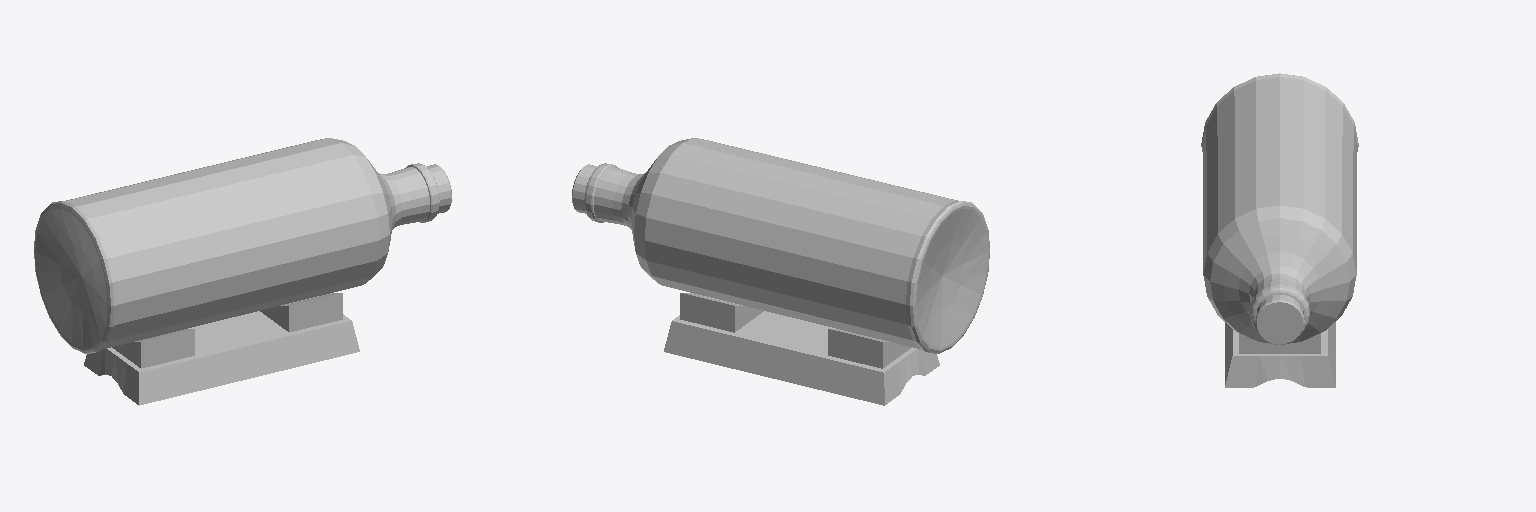
The model's file is boatinabottle.obj.
3 views of the same model, side by side, from view 1: azimuth 30°, elevation 25°; view 2: azimuth 150°, elevation 25°; view 3: azimuth 270°, elevation 25° (orthographic).
Parts seen in each view (by area): view 1: boatinabottle:boatinabottle; view 2: boatinabottle:boatinabottle; view 3: boatinabottle:boatinabottle.
Boxes of the visible parts, <box> form: boatinabottle:boatinabottle: <box>34,138,451,405</box>; boatinabottle:boatinabottle: <box>572,138,989,405</box>; boatinabottle:boatinabottle: <box>1201,73,1358,387</box>.
Bounding box in the file's own units: 32.95 × 16.08 × 12.19.